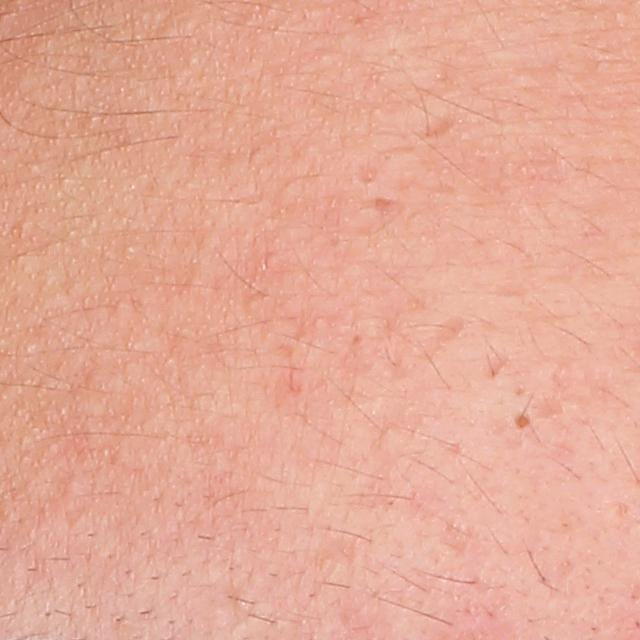atrophic_scar: (527, 366, 603, 420), (479, 348, 517, 378), (374, 196, 395, 213)
comedo: (506, 406, 538, 441)
